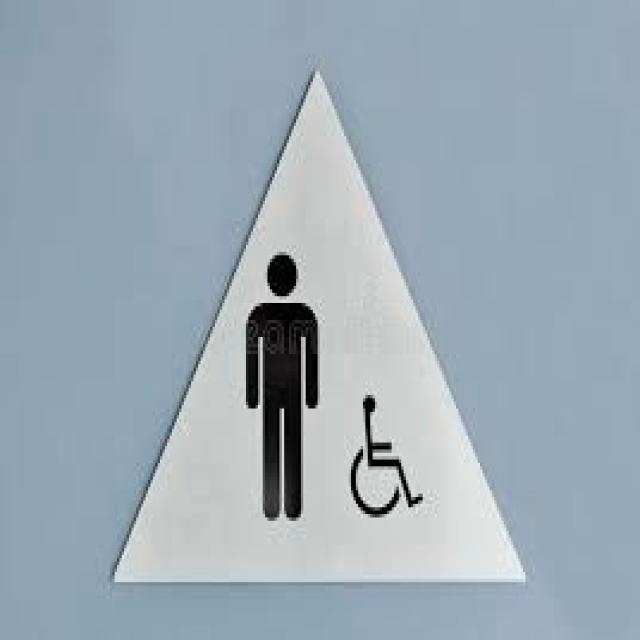ISA: (350, 392, 424, 520)
